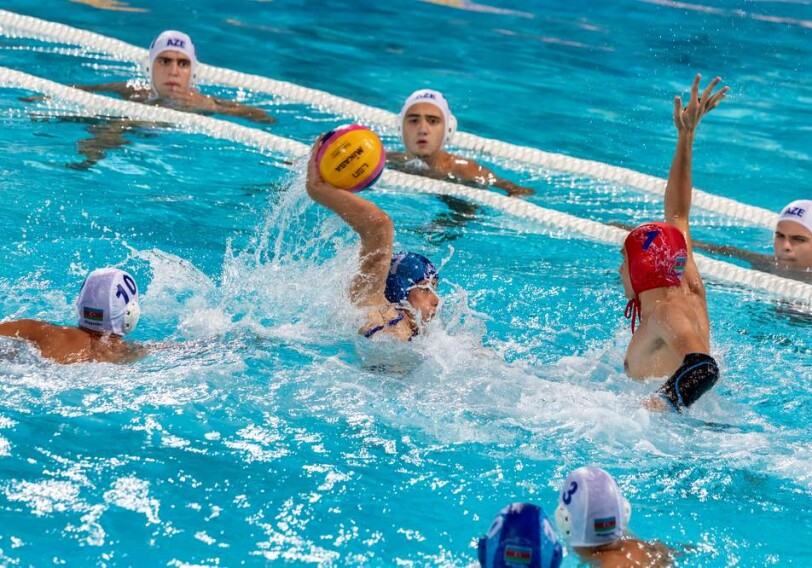ball: (318, 124, 386, 192)
player: (618, 74, 728, 416), (304, 127, 443, 347), (81, 27, 280, 126), (388, 89, 535, 197), (0, 268, 158, 366), (550, 462, 692, 568), (692, 175, 812, 297), (477, 465, 561, 567)
